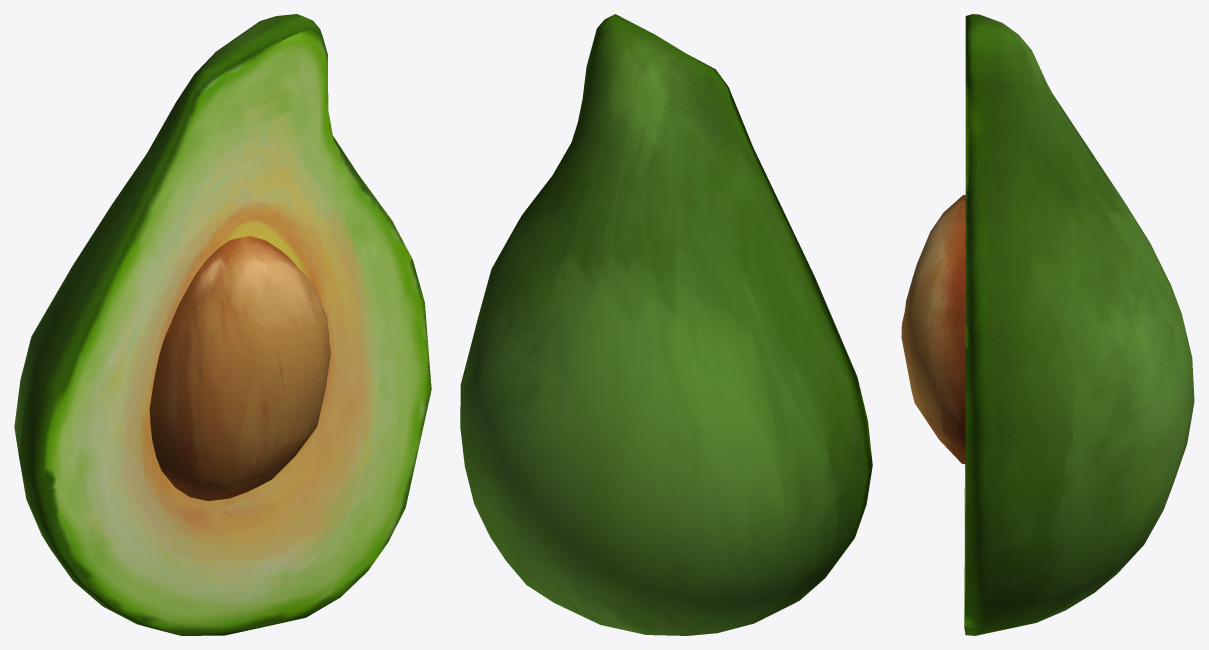
3 renders of one model, left to right at view 1: azimuth 30°, elevation 25°; view 2: azimuth 150°, elevation 25°; view 3: azimuth 270°, elevation 25°, orthographic. The views are drawn at different scales.
Visible parts, largest first — view 1: Avocado; view 2: Avocado; view 3: Avocado.
Boxes of the visible parts, left/top/right/bottom form: Avocado: left=14, top=14, right=431, bottom=635; Avocado: left=460, top=14, right=872, bottom=635; Avocado: left=901, top=14, right=1194, bottom=635.
Size of the model in its own units: 0.0426 by 0.0629 by 0.0276.
Materials: 1 (1 with a texture image).
